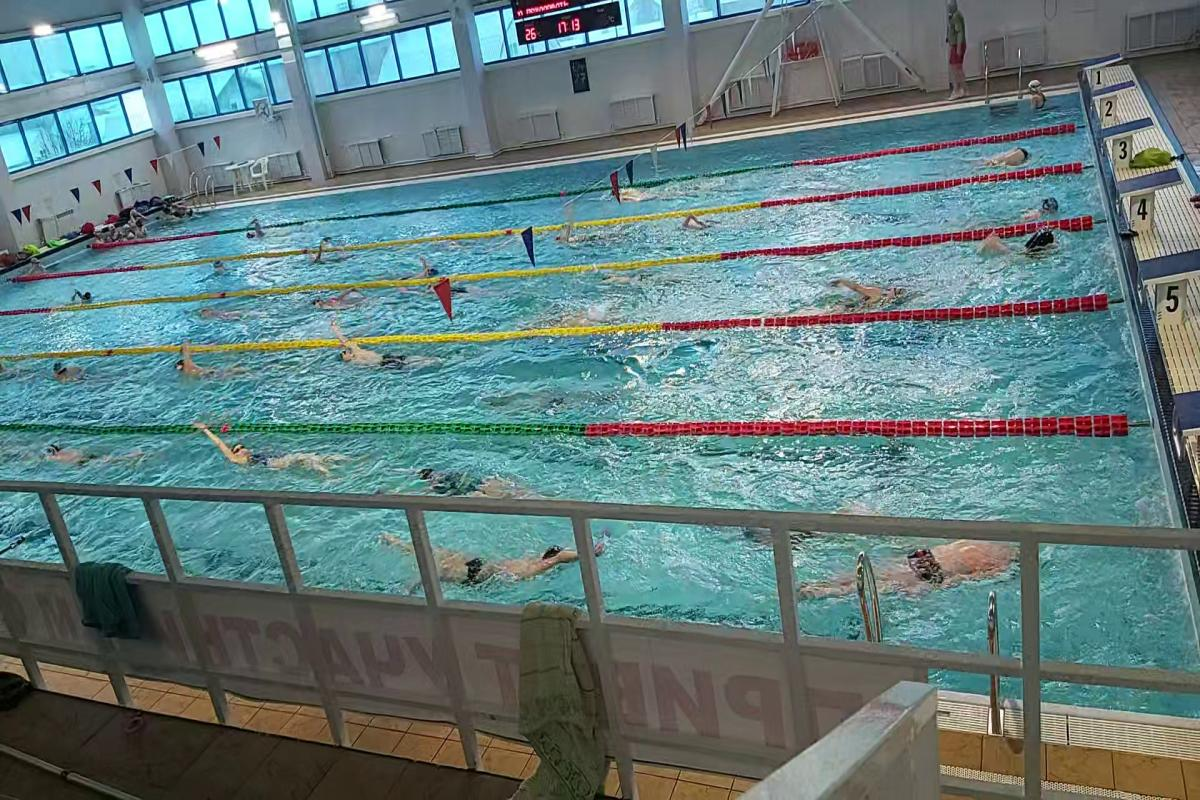swimmer: (400, 518, 596, 593), (802, 539, 1018, 605), (190, 420, 362, 480), (322, 320, 446, 379), (414, 449, 546, 498), (30, 435, 160, 474), (811, 270, 920, 312), (963, 226, 1073, 267), (166, 338, 260, 384), (548, 206, 620, 252), (193, 290, 270, 329), (40, 358, 95, 398), (977, 143, 1045, 174), (304, 287, 390, 311), (614, 182, 690, 208), (1009, 195, 1074, 222), (308, 231, 350, 271), (676, 207, 722, 236), (66, 289, 105, 308), (403, 256, 441, 274), (207, 253, 242, 272), (244, 221, 272, 241)
